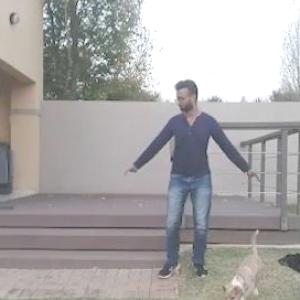land: (100, 94, 256, 270)
